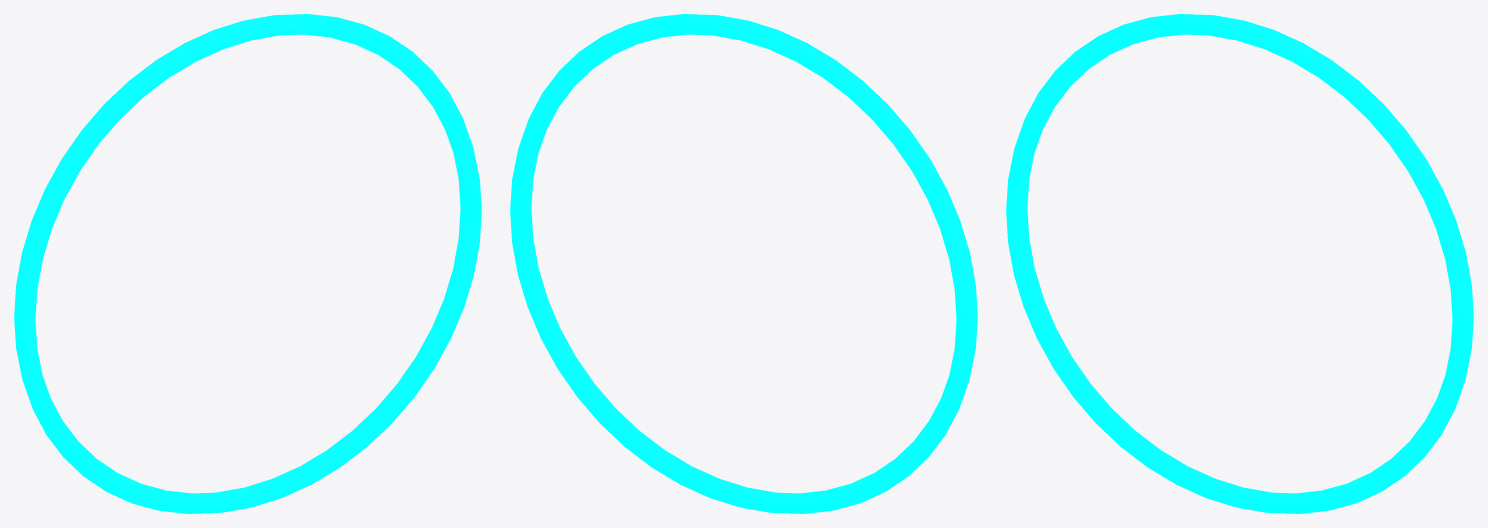
The model's file is locator_ring_geo.glb.
The picture shows the model from 3 angles, left to right: view 1: azimuth 30°, elevation 25°; view 2: azimuth 150°, elevation 25°; view 3: azimuth 330°, elevation 25°; orthographic projection.
Parts seen in each view (by area): view 1: MarkerMesh; view 2: MarkerMesh; view 3: MarkerMesh.
Boxes of the visible parts, left/top/right/bottom form: MarkerMesh: left=14, top=14, right=481, bottom=513; MarkerMesh: left=510, top=14, right=977, bottom=513; MarkerMesh: left=1006, top=14, right=1473, bottom=513.
Size of the model in its own units: 0.73 by 0.73 by 0.03.
